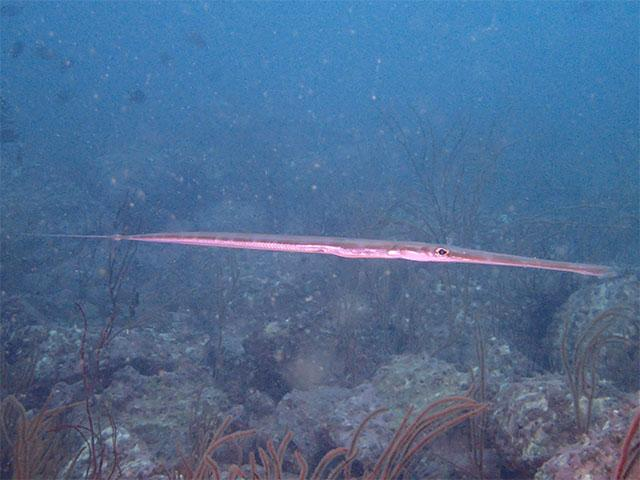Fistularia commersonii: (32, 199, 640, 369)
